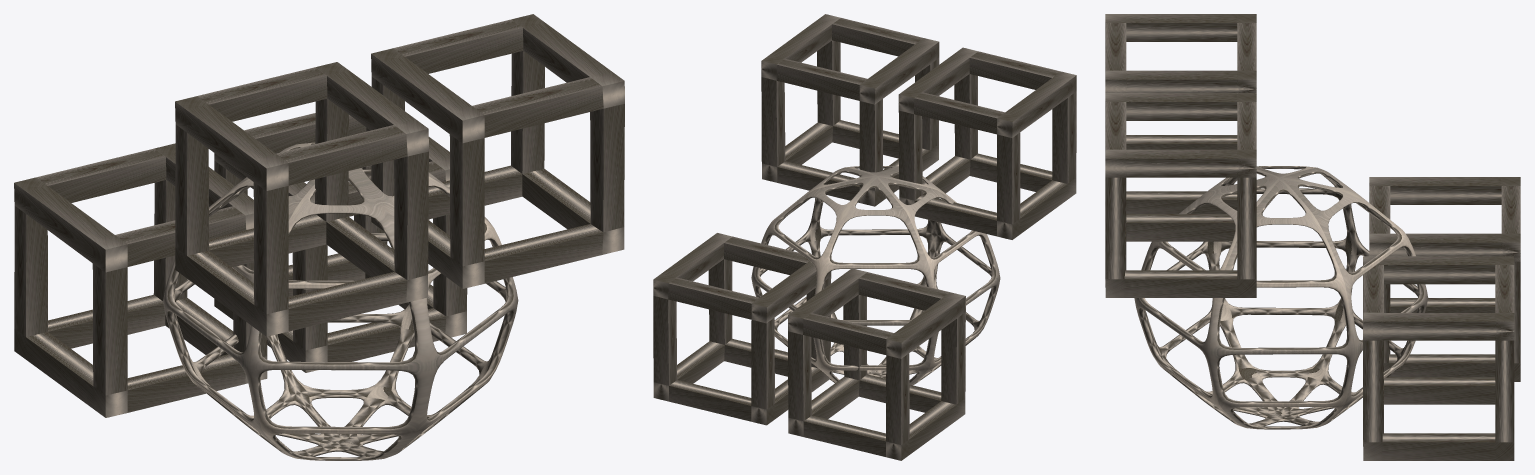
The model's file is Cubeandcircle.fbx.
The picture shows the model from 3 angles, left to right: view 1: azimuth 30°, elevation 25°; view 2: azimuth 150°, elevation 25°; view 3: azimuth 270°, elevation 25°; orthographic projection. The views are drawn at different scales.
Parts seen in each view (by area): view 1: cube3, cube1, cube2, circle, cube; view 2: cube2, cube3, cube, cube1, circle; view 3: circle, cube1, cube, cube2, cube3.
Part boxes in pixels (<box>): cube3: <box>175,62,428,336</box>; cube1: <box>371,14,624,288</box>; cube2: <box>14,143,267,417</box>; circle: <box>163,142,518,460</box>; cube: <box>214,113,467,372</box>; cube2: <box>788,269,965,460</box>; cube3: <box>898,47,1076,239</box>; cube: <box>653,233,831,425</box>; cube1: <box>761,14,939,206</box>; circle: <box>751,166,1000,385</box>; circle: <box>1134,166,1428,429</box>; cube1: <box>1105,93,1256,297</box>; cube: <box>1363,256,1514,460</box>; cube2: <box>1369,177,1520,381</box>; cube3: <box>1105,14,1256,213</box>.
Size of the model in its own units: 1.66 by 1.76 by 2.01.
